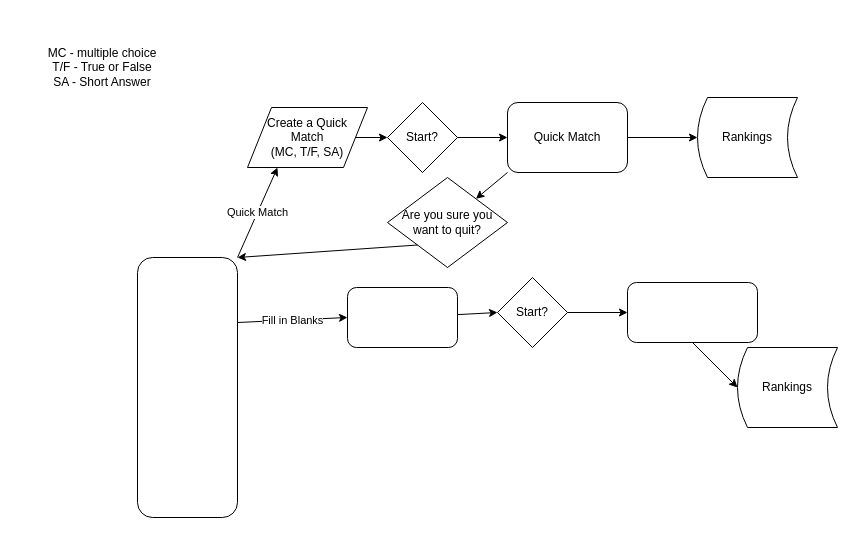
This 855x535 diagram has some shape labels left out. The box of each missing label's shape, as (x1, y1, x2, y2) in pixels:
Fill in the Blank Lobby: (346, 286, 458, 348)
Fill in the Blank Match (divide num of players in lobby by 2): (626, 282, 758, 342)
Homepage (Lobby): (136, 256, 238, 518)
